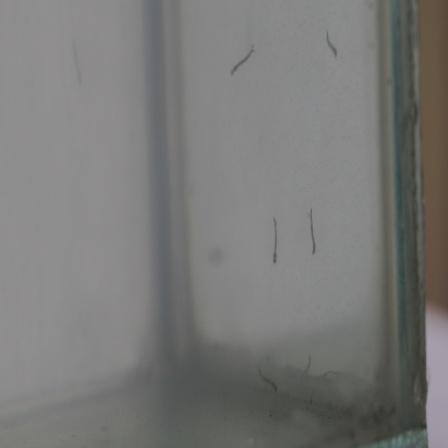Jentik-Nyamuk: (228, 43, 255, 79), (269, 216, 284, 268)
